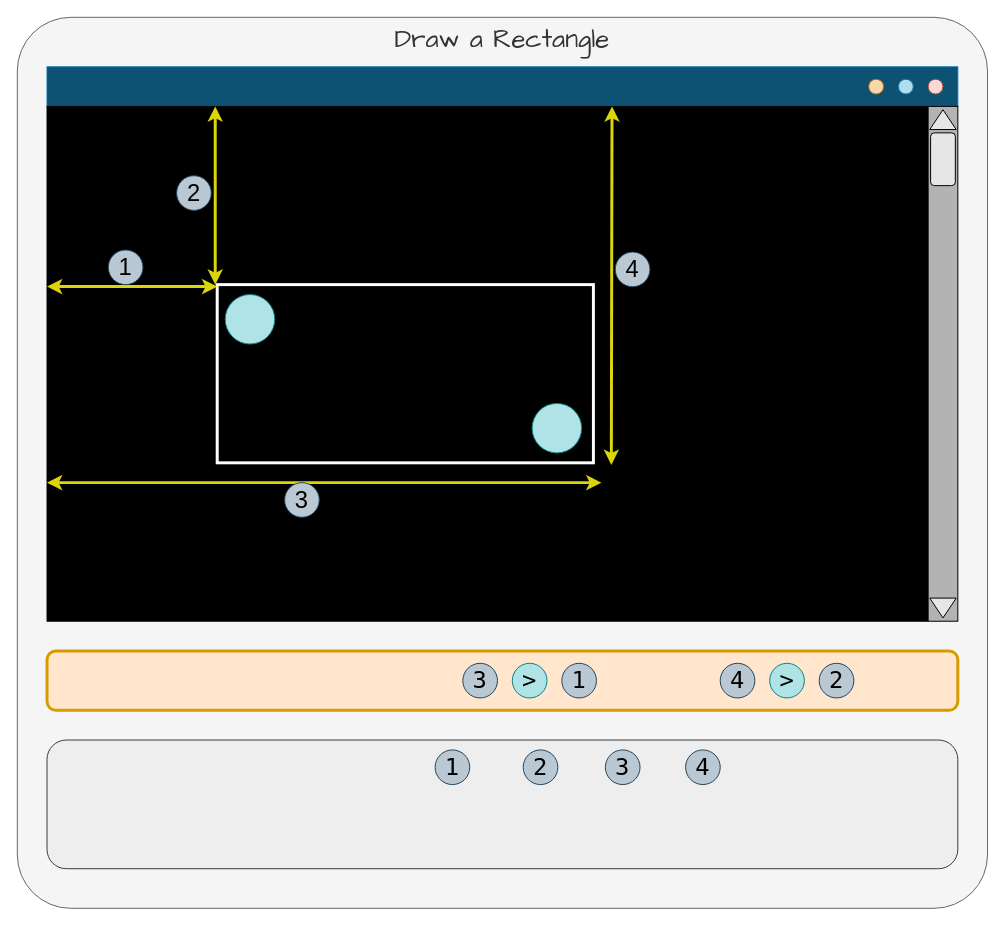
Some shapes in this 1005 by 926 pixel diagram are drawn without their labels. The shapes that lost their labels are listed below. From the top down, each one's box as (x1, y1, x2, y2) in pixels, then its label:
(224, 294, 275, 344): ul
(531, 402, 582, 453): lr
(45, 649, 959, 711): Restrictions: And
(46, 739, 958, 869): rectangle(300, 200, 50, 100) rectangle(left, top, right, bottom)
